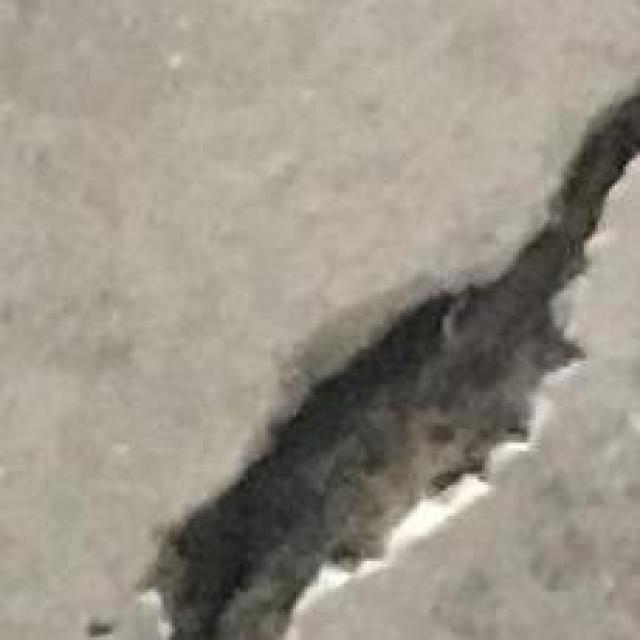diagonal crack: (139, 87, 639, 639)
